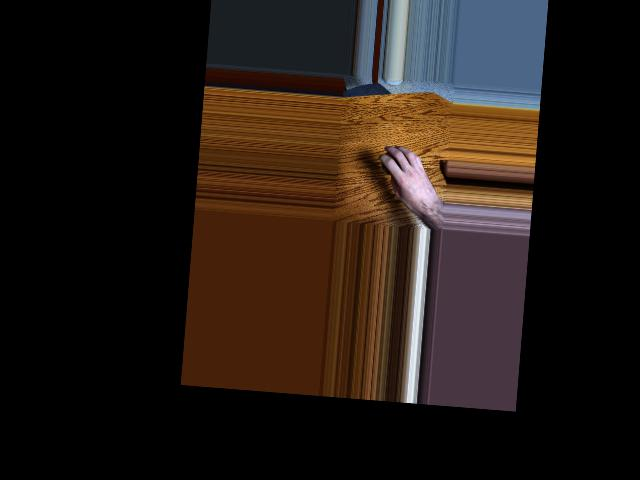onion: (380, 151, 404, 179)
